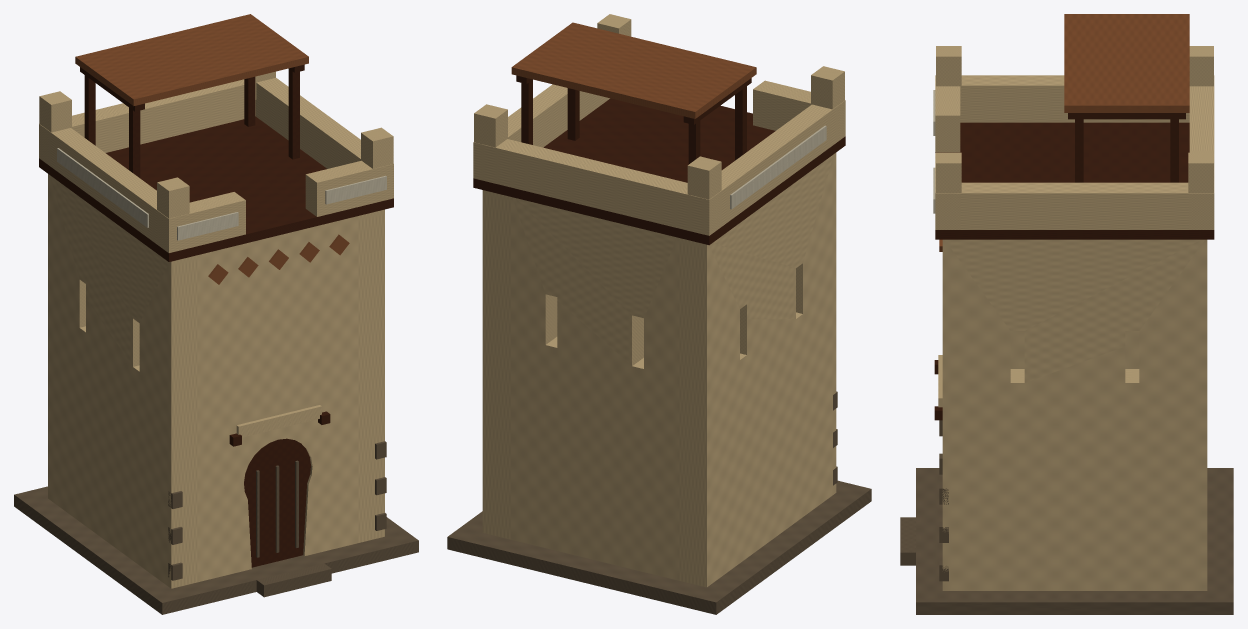
File: Berber_Outpost_Age3_base.fbx
The picture shows the model from 3 angles, left to right: view 1: azimuth 30°, elevation 25°; view 2: azimuth 150°, elevation 25°; view 3: azimuth 270°, elevation 25°; orthographic projection. The views are drawn at different scales.
Visible parts, largest first — view 1: west_thick_wall, south_thick_wall, lookout_floor, fitted_flat_canopy, tower_foundation, east_thick_wall, lookout_parapet_back, horseshoe_door, lookout_parapet_side.001, lookout_parapet_side, lookout_parapet_front.001, lookout_parapet_front (+12 smaller); view 2: north_thick_wall, west_thick_wall, lookout_floor, fitted_flat_canopy, tower_foundation, lookout_parapet_back, east_thick_wall, lookout_parapet_side, lookout_parapet_side.001, lookout_parapet_front, neutral_owner_side_band, corner_merlon.001 (+5 smaller); view 3: east_thick_wall, lookout_floor, tower_foundation, fitted_flat_canopy, lookout_parapet_side.001, lookout_parapet_side, lookout_parapet_back, lookout_parapet_front, west_thick_wall, corner_merlon, corner_merlon.002, corner_merlon.003 (+6 smaller).
Boxes of the visible parts, box(x1,y1,x2,y2) form: west_thick_wall: box(48, 174, 198, 588); south_thick_wall: box(198, 216, 357, 581); lookout_floor: box(39, 116, 393, 261); fitted_flat_canopy: box(75, 14, 308, 105); tower_foundation: box(14, 486, 418, 614); east_thick_wall: box(358, 209, 384, 542); lookout_parapet_back: box(39, 79, 255, 165); horseshoe_door: box(244, 438, 310, 567); lookout_parapet_side.001: box(255, 78, 360, 168); lookout_parapet_side: box(50, 128, 162, 244); lookout_parapet_front.001: box(305, 160, 393, 216); lookout_parapet_front: box(157, 192, 245, 252); north_thick_wall: box(511, 197, 678, 580); west_thick_wall: box(678, 153, 836, 587); lookout_floor: box(473, 98, 845, 245); fitted_flat_canopy: box(511, 22, 756, 118); tower_foundation: box(447, 480, 871, 614); lookout_parapet_back: box(473, 139, 721, 235); east_thick_wall: box(482, 190, 511, 539); lookout_parapet_side: box(715, 104, 839, 226); lookout_parapet_side.001: box(508, 84, 609, 147); lookout_parapet_front: box(753, 80, 845, 139); neutral_owner_side_band: box(730, 125, 826, 209); corner_merlon.001: box(687, 156, 721, 199); east_thick_wall: box(942, 239, 1207, 590); lookout_floor: box(935, 122, 1214, 239); tower_foundation: box(916, 468, 1233, 614); fitted_flat_canopy: box(1064, 14, 1189, 112); lookout_parapet_side.001: box(948, 182, 1201, 229); lookout_parapet_side: box(960, 75, 1189, 122); lookout_parapet_back: box(1189, 75, 1214, 229); lookout_parapet_front: box(935, 75, 960, 152); west_thick_wall: box(1010, 331, 1139, 368); corner_merlon: box(936, 46, 961, 104); corner_merlon.002: box(936, 152, 961, 192); corner_merlon.003: box(1188, 152, 1213, 192).
Bounding box in the file's own units: 360 × 610 × 378.
5 materials, 5 textured.
